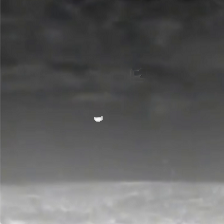Target: (93, 115, 103, 123)
